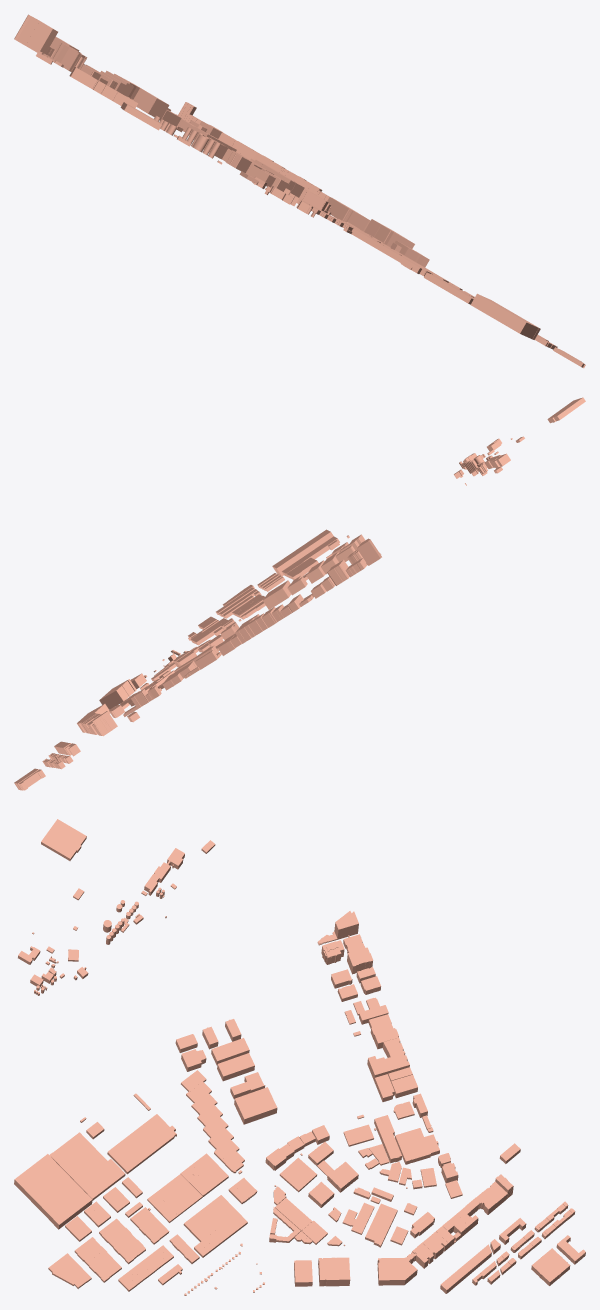
3 renders of one model, top to bottom at view 1: azimuth 30°, elevation 25°; view 2: azimuth 150°, elevation 25°; view 3: azimuth 270°, elevation 25°, orthographic. The views are drawn at different scales.
Size of the model in its own units: 946 by 766 by 1293.
